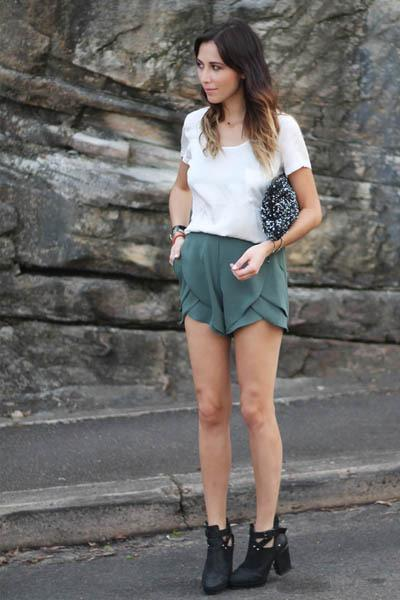bag: (261, 167, 305, 239)
shirt: (181, 107, 310, 249)
shoe: (199, 514, 291, 599)
skirt: (179, 231, 299, 334)
